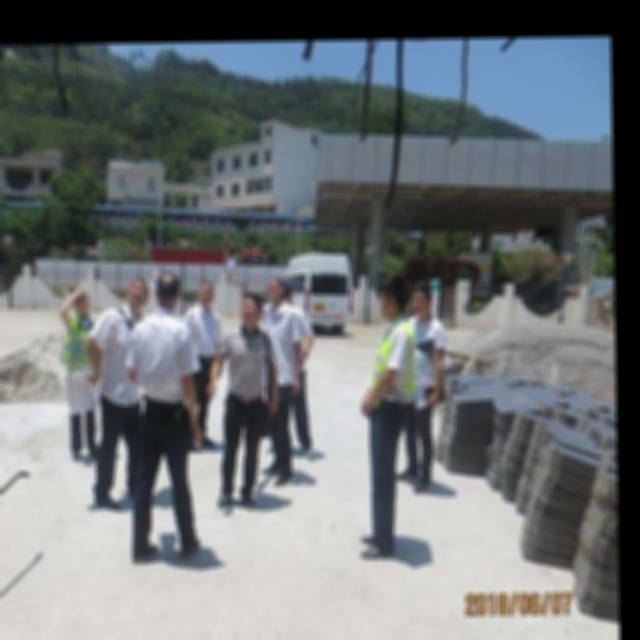Con_Chaleco: (367, 316, 419, 406)
Sin_Chaleco: (129, 309, 196, 411), (223, 325, 277, 406)
